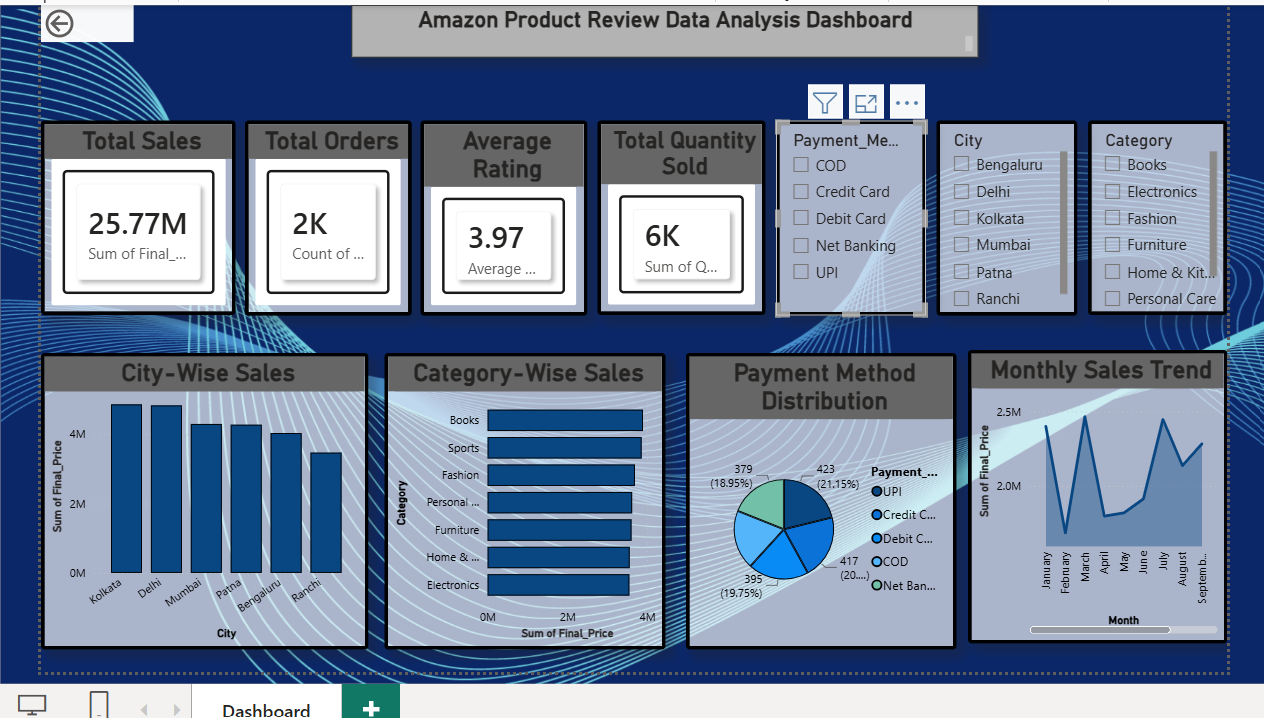

This screenshot's page, from the dashboard's own definition file:
{"tool":"powerbi","page":{"name":"Dashboard","canvas":[1280,720],"ordinal":0},"visuals":[{"type":"cardVisual","title":"Total Sales","fields":{"Data":["Sum(Table1.Final_Price)"]},"box":[0,125,210,210],"z":0},{"type":"cardVisual","title":"Total Orders","fields":{"Data":["CountNonNull(Table1.Product_ID)"]},"box":[220.2,124.7,179.7,210.5],"z":1000},{"type":"cardVisual","title":"Average Rating","fields":{"Data":["Avg(Table1.Rating)"]},"box":[409.7,124.7,179.7,210.5],"z":2000},{"type":"cardVisual","title":"Total Quantity Sold","fields":{"Data":["Sum(Table1.Quantity)"]},"box":[600.7,124.7,181,210],"z":3000},{"type":"clusteredBarChart","title":"Category-Wise Sales","fields":{"Category":["Table1.Category"],"Y":["Sum(Table1.Final_Price)"]},"box":[370,375,303.3,320],"z":4000},{"type":"pieChart","title":"Payment Method Distribution","fields":{"Category":["Table1.Payment_Method"],"Y":["CountNonNull(Table1.Product_ID)"]},"box":[696.7,375,291.7,320],"z":5000},{"type":"clusteredColumnChart","title":"City-Wise Sales","fields":{"Category":["Table1.City"],"Y":["Sum(Table1.Final_Price)"]},"box":[0,375,353.3,320],"z":6000},{"type":"lineChart","title":"Monthly Sales Trend","fields":{"Y":["Sum(Table1.Final_Price)"],"Category":["Table1.Purchase_Date.Variation.Date Hierarchy.Month"]},"box":[1000,371.7,280,316.7],"z":7000},{"type":"slicer","fields":{"Values":["Table1.Category"]},"box":[1130,125,150,210],"z":8000},{"type":"actionButton","box":[0,0,100,40],"z":9000},{"type":"slicer","fields":{"Values":["Table1.City"]},"box":[966.7,124.7,152.2,210.5],"z":10000},{"type":"slicer","fields":{"Values":["Table1.Payment_Method"]},"box":[793.4,124.7,161.9,210.5],"z":11000},{"type":"textbox","title":"Amazon Product Review Data Analysis Dashboard","box":[335.2,0,676.8,56.7],"z":12000}]}

Visuals, with their boxes on the page's 1280x720 design canvas (x1, y1, x2, y2). These are canvas units, not pixel positions in the 1264x718 screenshot, which may show the page scaled, cropped or inside an application window:
"Total Sales" cardVisual: (left=0, top=125, right=210, bottom=335)
"Total Orders" cardVisual: (left=220, top=125, right=400, bottom=335)
"Average Rating" cardVisual: (left=410, top=125, right=589, bottom=335)
"Total Quantity Sold" cardVisual: (left=601, top=125, right=782, bottom=335)
"Category-Wise Sales" clusteredBarChart: (left=370, top=375, right=673, bottom=695)
"Payment Method Distribution" pieChart: (left=697, top=375, right=988, bottom=695)
"City-Wise Sales" clusteredColumnChart: (left=0, top=375, right=353, bottom=695)
"Monthly Sales Trend" lineChart: (left=1000, top=372, right=1280, bottom=688)
slicer - Table1.Category: (left=1130, top=125, right=1280, bottom=335)
actionButton: (left=0, top=0, right=100, bottom=40)
slicer - Table1.City: (left=967, top=125, right=1119, bottom=335)
slicer - Table1.Payment_Method: (left=793, top=125, right=955, bottom=335)
"Amazon Product Review Data Analysis Dashboard" textbox: (left=335, top=0, right=1012, bottom=57)
